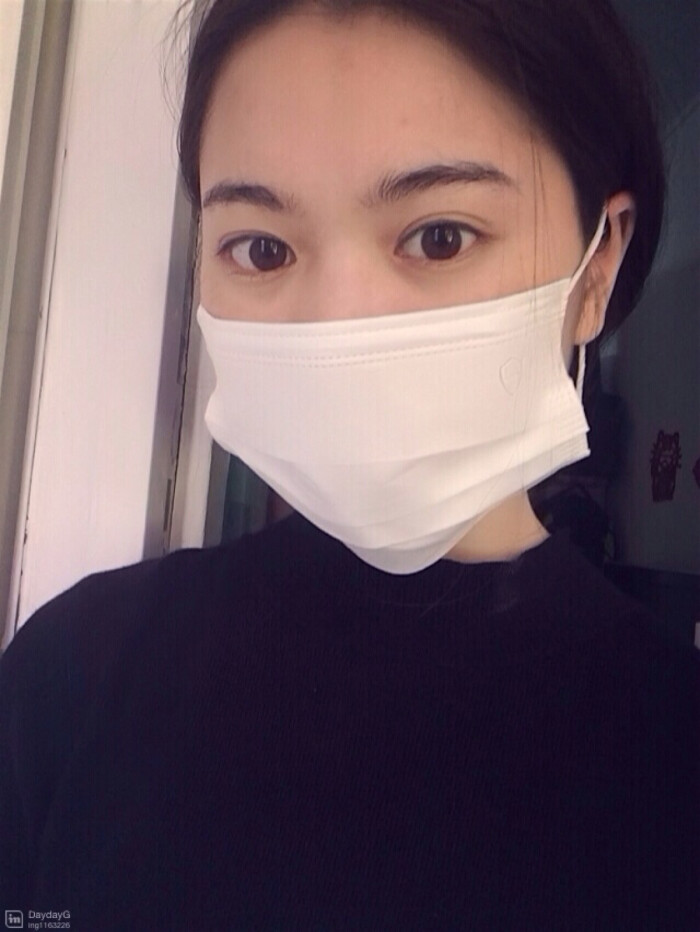mask: (180, 137, 615, 556)
